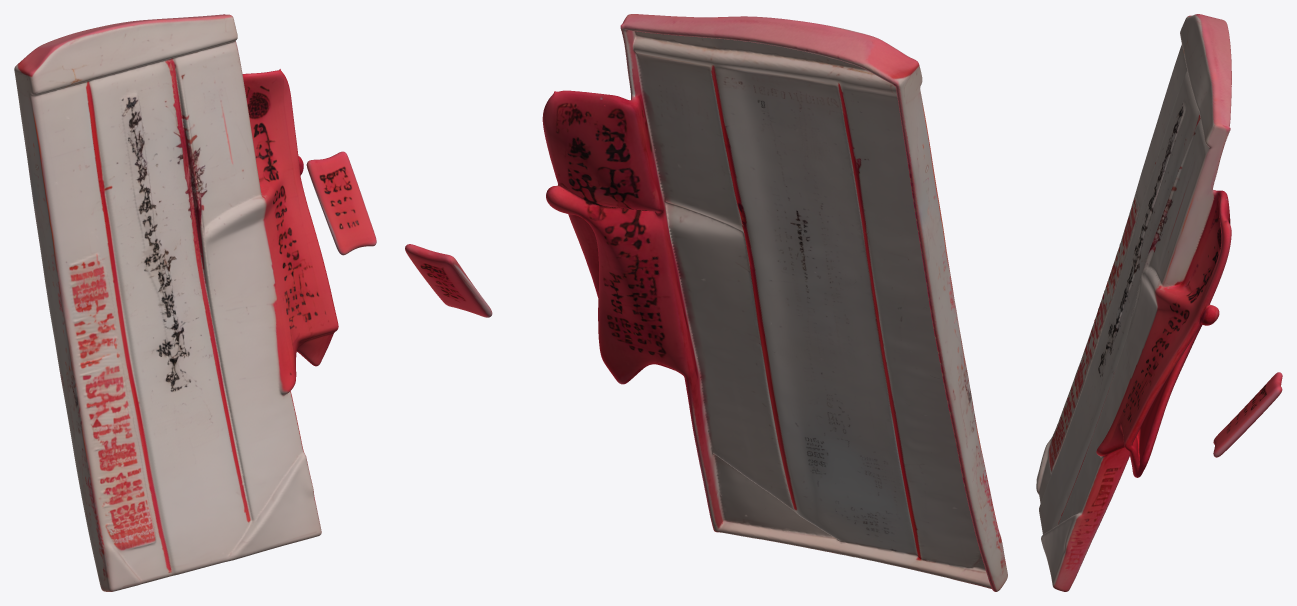
Rendered from 苟吉堂参加南京中国战区日本投降签字仪式的邀请函.glb.
3 renders of one model, left to right at view 1: azimuth 30°, elevation 25°; view 2: azimuth 150°, elevation 25°; view 3: azimuth 270°, elevation 25°, orthographic. The views are drawn at different scales.
Parts seen in each view (by area): view 1: texture_pbr_v128; view 2: texture_pbr_v128; view 3: texture_pbr_v128.
Boxes of the visible parts, <box> form: texture_pbr_v128: <box>14,14,376,591</box>; texture_pbr_v128: <box>405,14,1007,591</box>; texture_pbr_v128: <box>1036,14,1282,591</box>.
Bounding box in the file's own units: 0.3935 × 0.5064 × 0.2321.
1 material, 1 textured.
